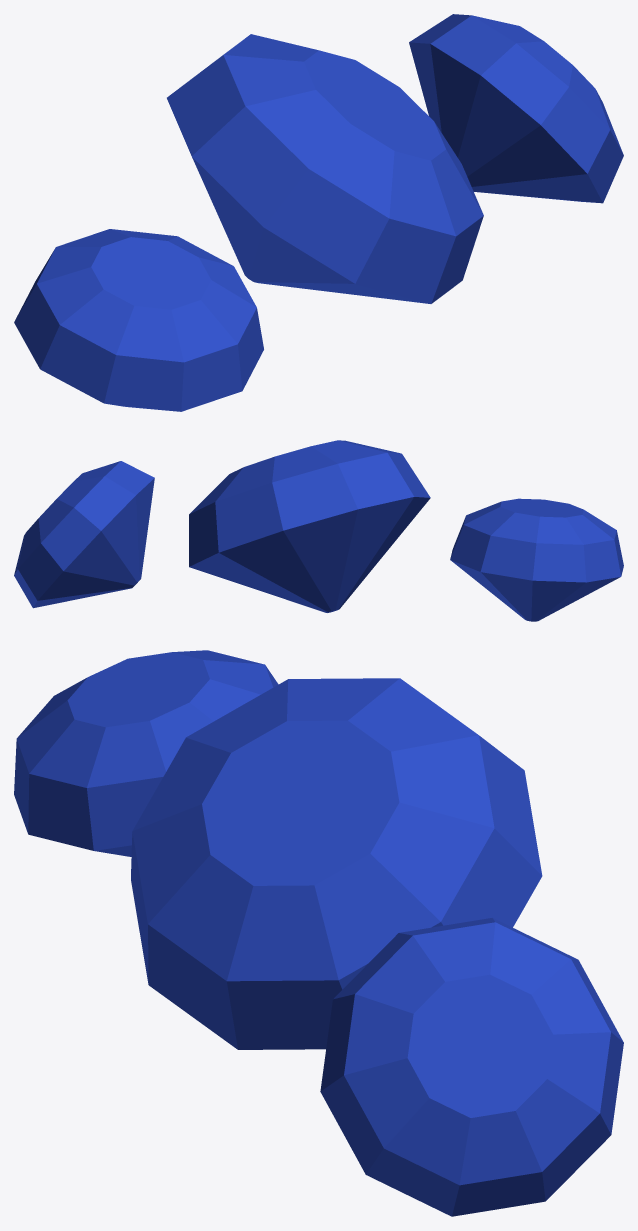
3 views of the same model, one above another, from view 1: azimuth 30°, elevation 25°; view 2: azimuth 150°, elevation 25°; view 3: azimuth 270°, elevation 25° (orthographic). The views are drawn at different scales.
Parts seen in each view (by area): view 1: TI027 / individually faceted stone 1, TI027 / individually faceted stone 0, TI027 / individually faceted stone 2; view 2: TI027 / individually faceted stone 1, TI027 / individually faceted stone 0, TI027 / individually faceted stone 2; view 3: TI027 / individually faceted stone 1, TI027 / individually faceted stone 2, TI027 / individually faceted stone 0.
Part boxes in pixels (x1,y1,x2,y2): TI027 / individually faceted stone 1: (167, 34, 483, 303); TI027 / individually faceted stone 0: (14, 229, 263, 411); TI027 / individually faceted stone 2: (409, 14, 623, 203); TI027 / individually faceted stone 1: (189, 440, 430, 612); TI027 / individually faceted stone 0: (450, 498, 623, 621); TI027 / individually faceted stone 2: (14, 461, 154, 608); TI027 / individually faceted stone 1: (131, 678, 542, 1049); TI027 / individually faceted stone 2: (320, 918, 623, 1216); TI027 / individually faceted stone 0: (14, 650, 278, 856).
Bounding box in the file's own units: 2.54 × 0.8889 × 1.57.
